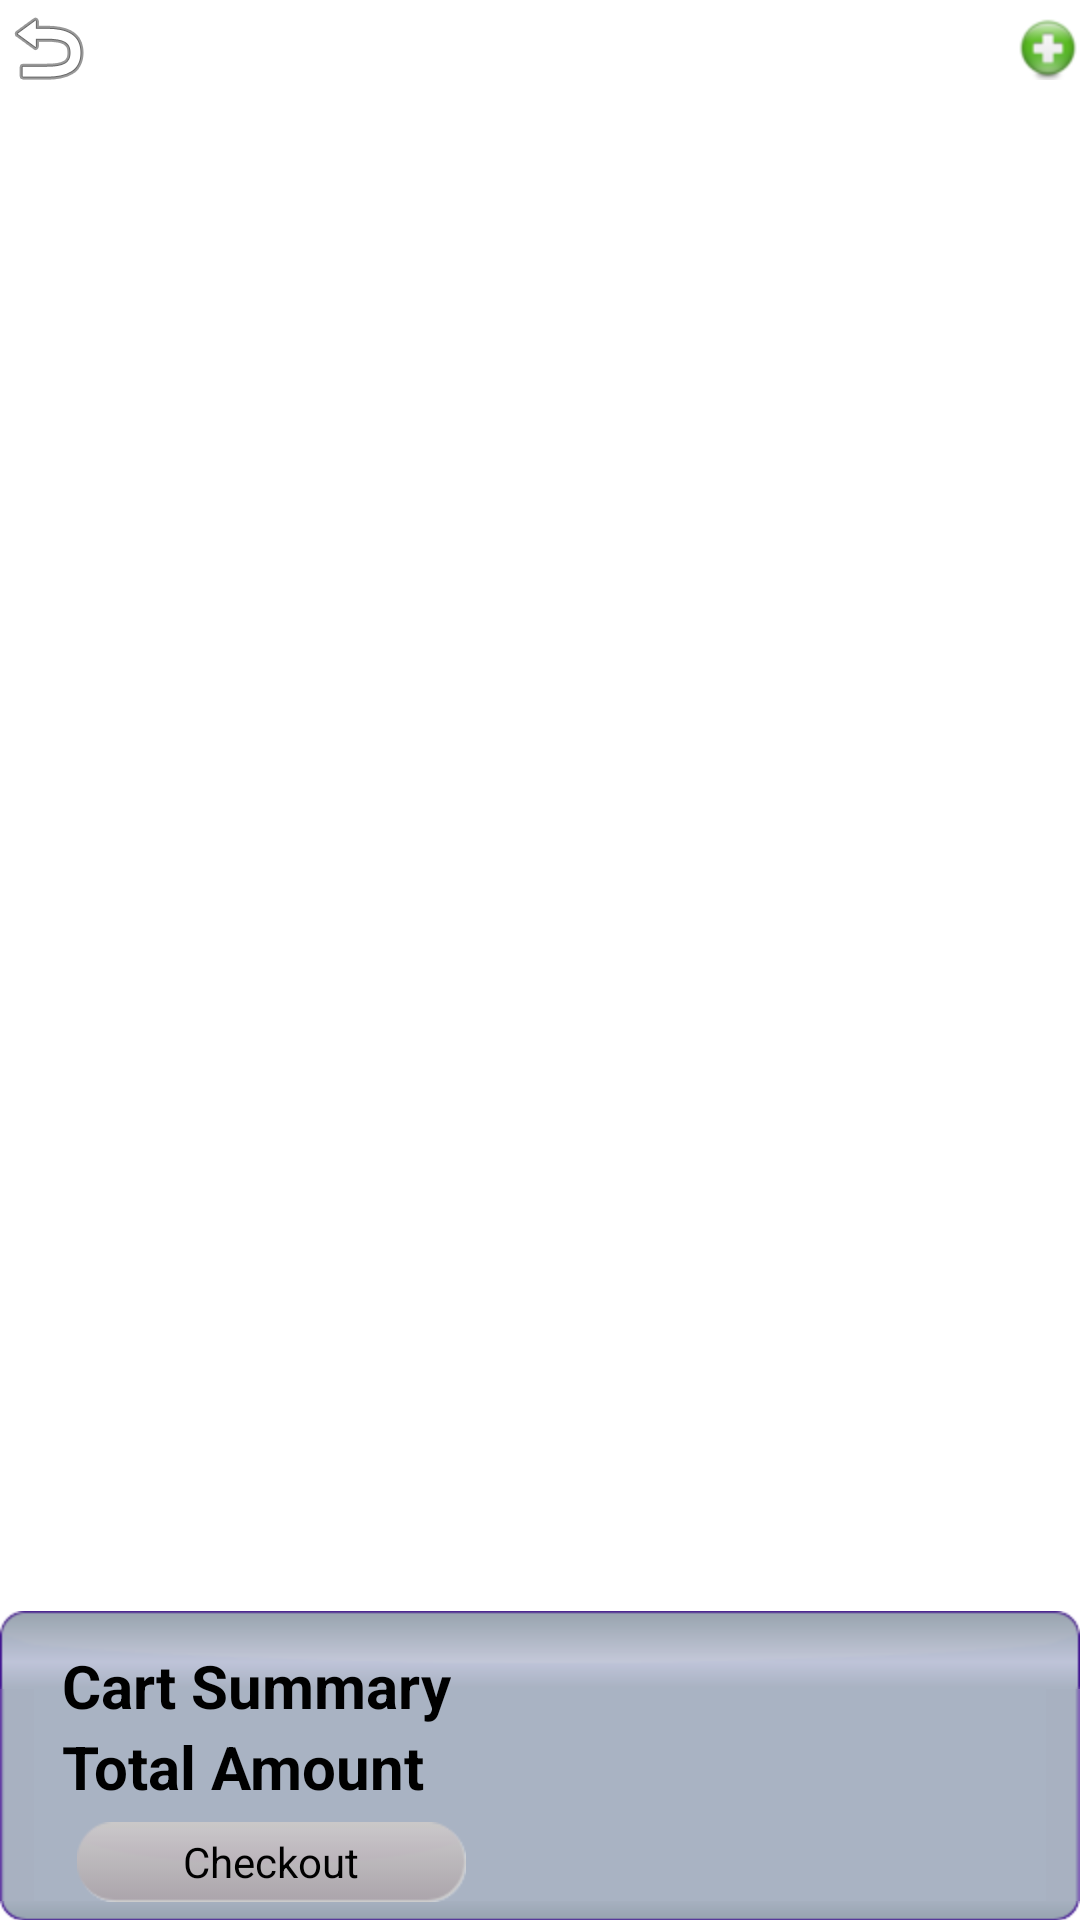

Screen size 1080 x 1920. Icon name, then its box in pixels as [x1=x1, y1=y1, x2=x2, y2=y2]:
revert: [x1=15, y1=17, x2=84, y2=80]
